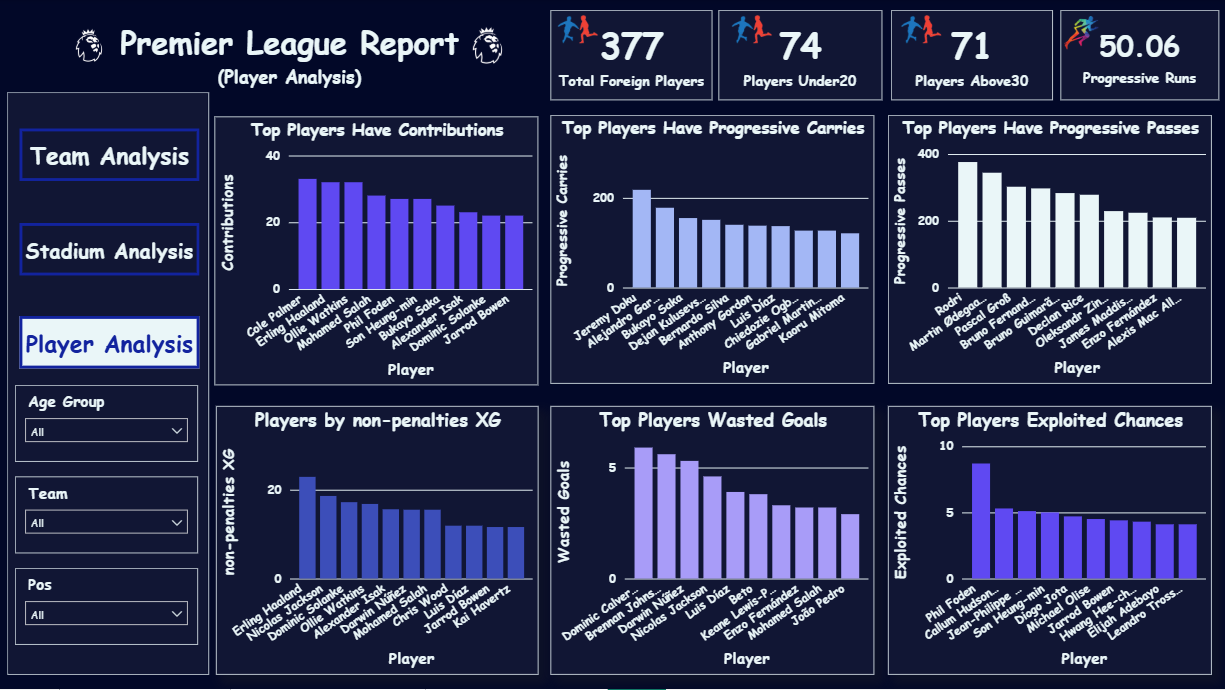

The page's visual inventory and layout, read from the dashboard file:
{"tool":"powerbi","page":{"name":"Player Analysis","canvas":[1280,720],"ordinal":2},"visuals":[{"type":"textbox","box":[114.1,0,381.4,136],"z":0},{"type":"image","box":[23,0,144.3,98.4],"z":1000},{"type":"shape","box":[11.5,98.4,209.8,606.6],"z":2000},{"type":"image","box":[413.1,0,196.7,98.4],"z":3000},{"type":"slicer","fields":{"Values":["DimPlayer.Age Group"]},"box":[18.8,403.3,190.7,79.7],"z":4000},{"type":"slicer","fields":{"Values":["DimTeam.Team"]},"box":[18.8,498.6,190.7,79.7],"z":5000},{"type":"clusteredColumnChart","title":"Players by non-penalties XG","fields":{"Category":["DimPlayer.Player"],"Y":["FactPlayerPerformance.npxG"]},"box":[228.2,425.1,336,279.8],"z":6000},{"type":"clusteredColumnChart","title":"Top Players Have Progressive Carries","fields":{"Category":["DimPlayer.Player"],"Y":["FactPlayerPerformance.PrgC"]},"box":[576.7,121.9,337.6,279.8],"z":7000},{"type":"clusteredColumnChart","title":"Top Players Have Progressive Passes","fields":{"Category":["DimPlayer.Player"],"Y":["FactPlayerPerformance.PrgP"]},"box":[928.4,121.9,337.6,279.8],"z":8000},{"type":"clusteredColumnChart","title":"Top Players Have Contributions","fields":{"Category":["DimPlayer.Player"],"Y":["FactPlayerPerformance.TotalContributions"]},"box":[226.6,123.5,337.6,279.8],"z":9000},{"type":"card","fields":{"Values":["FactPlayerPerformance.PrgR"]},"box":[1108.2,12.5,165,93.8],"z":10000},{"type":"card","fields":{"Values":["DimPlayer.PlayersAbove30"]},"box":[931.5,12.5,168.8,93.8],"z":11000},{"type":"card","fields":{"Values":["DimPlayer.PlayersUnder20"]},"box":[751.8,12.5,170.4,93.8],"z":12000},{"type":"card","fields":{"Values":["DimPlayer.TotalForeignPlayers"]},"box":[576.7,12.5,168.8,93.8],"z":13000},{"type":"actionButton","box":[23.4,234.4,187.6,54.7],"z":14000},{"type":"actionButton","box":[23.4,136,187.6,54.7],"z":15000},{"type":"actionButton","box":[23.4,331.4,187.6,54.7],"z":16000},{"type":"clusteredColumnChart","title":"Top Players Wasted Goals","fields":{"Category":["DimPlayer.Player"],"Y":["FactPlayerPerformance.WasteGoals"]},"box":[576.7,425.1,337.6,279.8],"z":17000},{"type":"clusteredColumnChart","title":"Top Players Exploited Chances","fields":{"Category":["DimPlayer.Player"],"Y":["FactPlayerPerformance.ExploitedGoals"]},"box":[928.4,425.1,337.6,279.8],"z":18000},{"type":"slicer","fields":{"Values":["DimPlayer.Pos"]},"box":[18.8,593.9,190.7,79.7],"z":19000},{"type":"image","box":[745.5,0,71.9,68.8],"z":20000},{"type":"image","box":[922.2,0,71.9,68.8],"z":21000},{"type":"image","box":[994.1,12.5,272,46.9],"z":22000},{"type":"image","box":[564.2,0,71.9,68.8],"z":23000}]}

Visuals, with their boxes in screenshot pixels (x1, y1, x2, y2), scaled from the page's 1280x720 canvas onto the 1225x690 screenshot:
textbox: rect(109, 0, 474, 130)
image: rect(22, 0, 160, 94)
shape: rect(11, 94, 212, 676)
image: rect(395, 0, 584, 94)
slicer - DimPlayer.Age Group: rect(18, 386, 200, 463)
slicer - DimTeam.Team: rect(18, 478, 200, 554)
"Players by non-penalties XG" clusteredColumnChart: rect(218, 407, 540, 676)
"Top Players Have Progressive Carries" clusteredColumnChart: rect(552, 117, 875, 385)
"Top Players Have Progressive Passes" clusteredColumnChart: rect(889, 117, 1212, 385)
"Top Players Have Contributions" clusteredColumnChart: rect(217, 118, 540, 386)
card - FactPlayerPerformance.PrgR: rect(1061, 12, 1218, 102)
card - DimPlayer.PlayersAbove30: rect(891, 12, 1053, 102)
card - DimPlayer.PlayersUnder20: rect(719, 12, 883, 102)
card - DimPlayer.TotalForeignPlayers: rect(552, 12, 713, 102)
actionButton: rect(22, 225, 202, 277)
actionButton: rect(22, 130, 202, 183)
actionButton: rect(22, 318, 202, 370)
"Top Players Wasted Goals" clusteredColumnChart: rect(552, 407, 875, 676)
"Top Players Exploited Chances" clusteredColumnChart: rect(889, 407, 1212, 676)
slicer - DimPlayer.Pos: rect(18, 569, 200, 646)
image: rect(713, 0, 782, 66)
image: rect(883, 0, 951, 66)
image: rect(951, 12, 1212, 57)
image: rect(540, 0, 609, 66)
